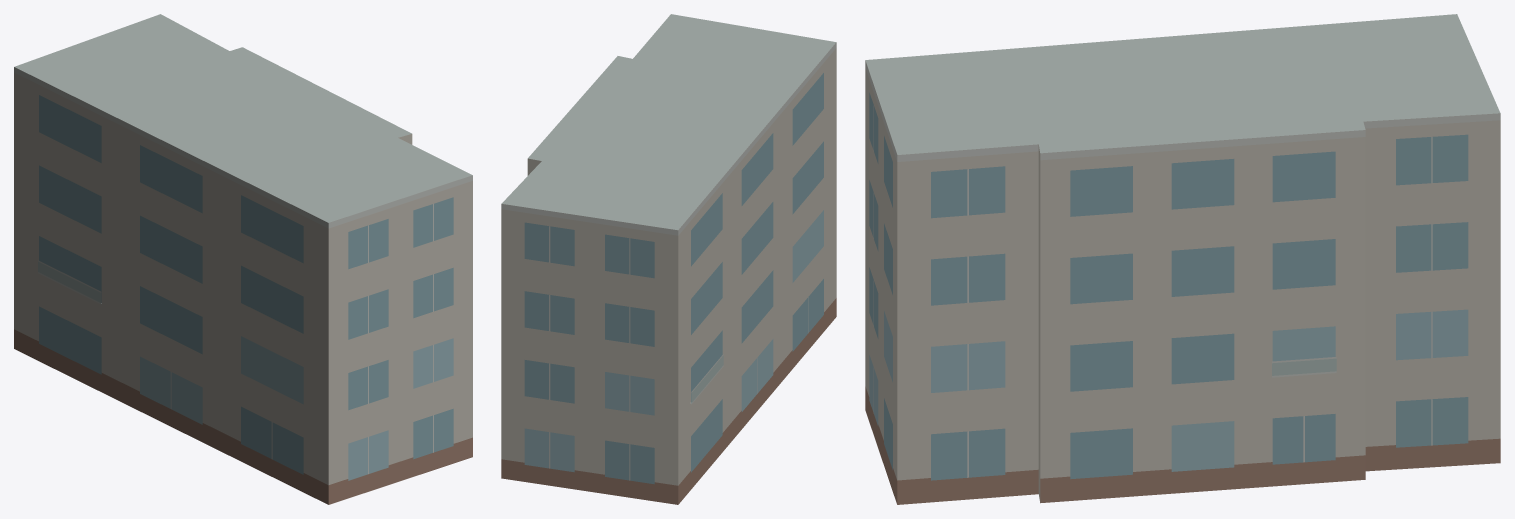
The model's file is survey-upis-32702593.glb.
3 views of the same model, side by side, from view 1: azimuth 30°, elevation 25°; view 2: azimuth 150°, elevation 25°; view 3: azimuth 270°, elevation 25° (orthographic). The views are drawn at different scales.
Parts seen in each view (by area): view 1: survey-upis-32702593.tmp; view 2: survey-upis-32702593.tmp; view 3: survey-upis-32702593.tmp.
Part boxes in pixels (<box>): survey-upis-32702593.tmp: <box>14,14,472,504</box>; survey-upis-32702593.tmp: <box>501,14,836,504</box>; survey-upis-32702593.tmp: <box>865,14,1500,504</box>.
Bounding box in the file's own units: 10.56 × 12.2 × 20.09.
